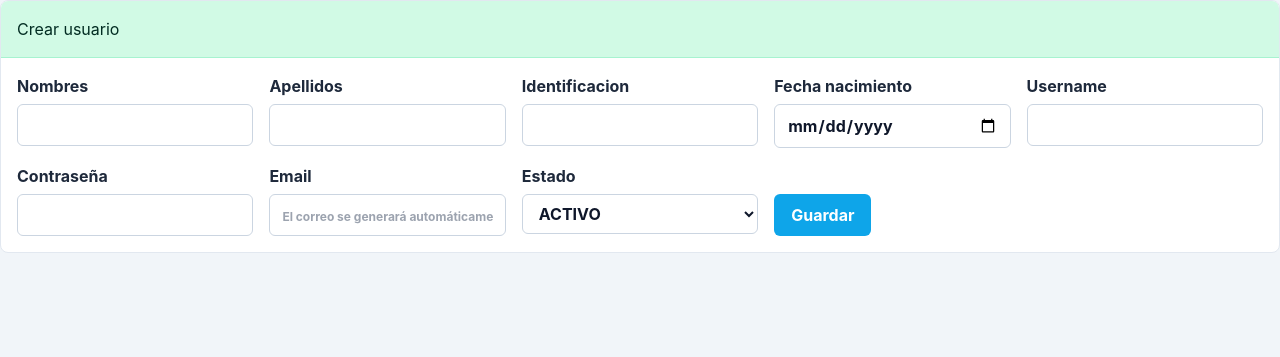
Test: UsuarioForm › valida username, password e identificacion antes de guardar
Type "Ana" into the field labelled "Nombres" at coordinates (135, 125), box x1=17 y1=104 x2=253 y2=146
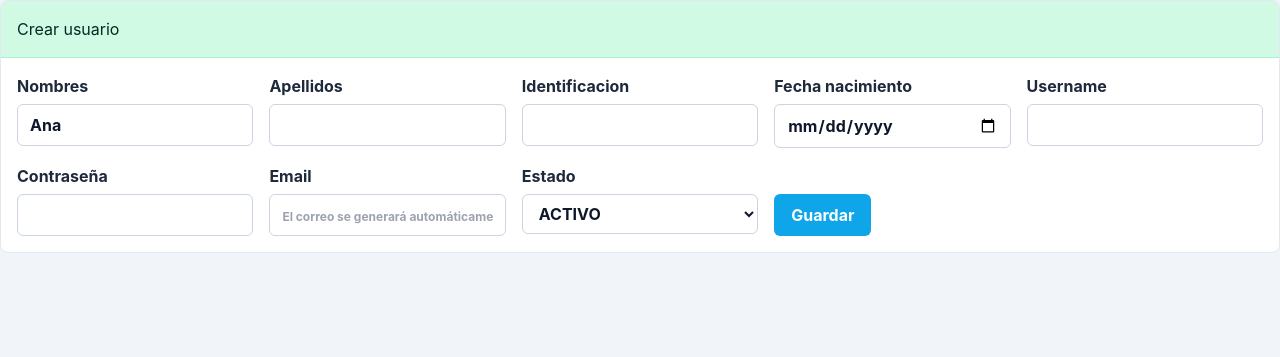
Type "Paz" into the field labelled "Apellidos" at coordinates (388, 125), box x1=269 y1=104 x2=506 y2=146
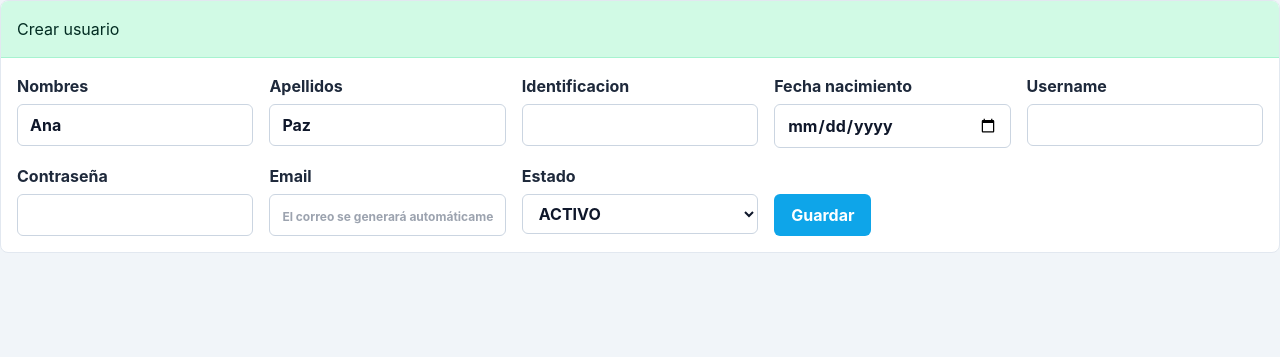
Type "1111222233" into the field labelled "Identificacion" at coordinates (640, 125), box x1=522 y1=104 x2=758 y2=146
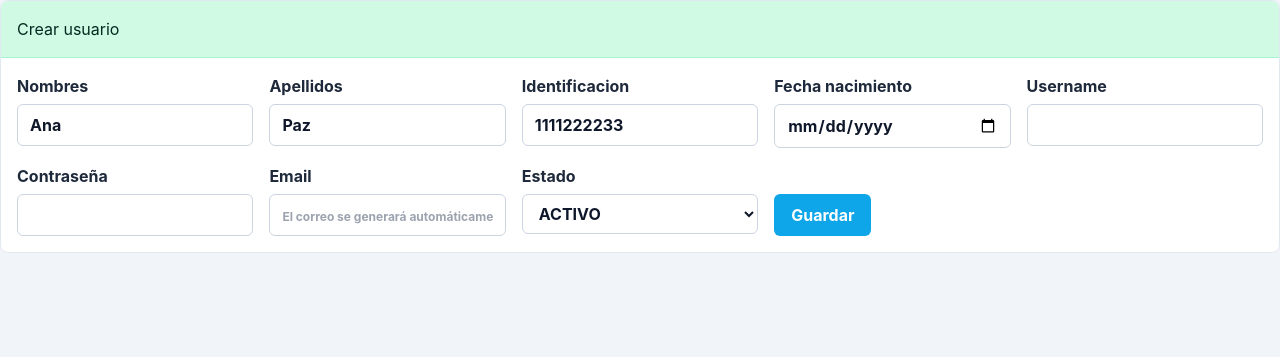
Type "usuario" into the field labelled "Username" at coordinates (1145, 125), box x1=1027 y1=104 x2=1263 y2=146
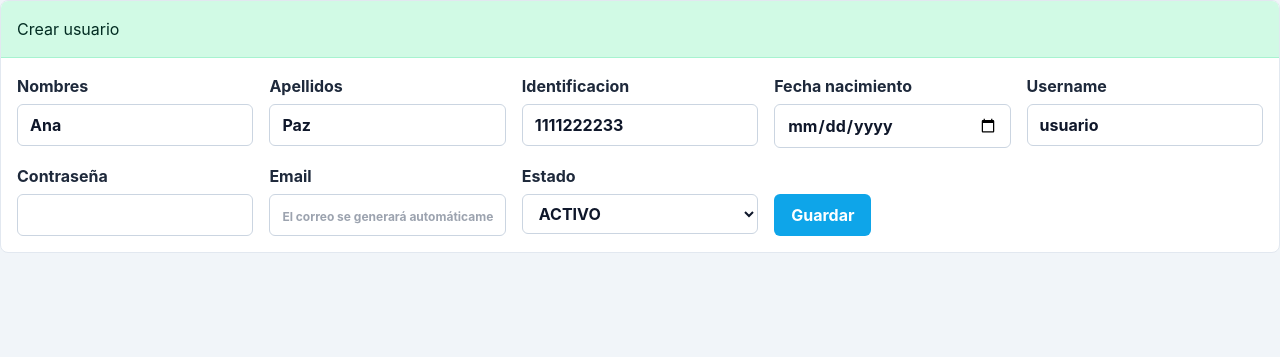
Type "password" into the password field labelled "Contraseña" at coordinates (135, 215), box x1=17 y1=194 x2=253 y2=236
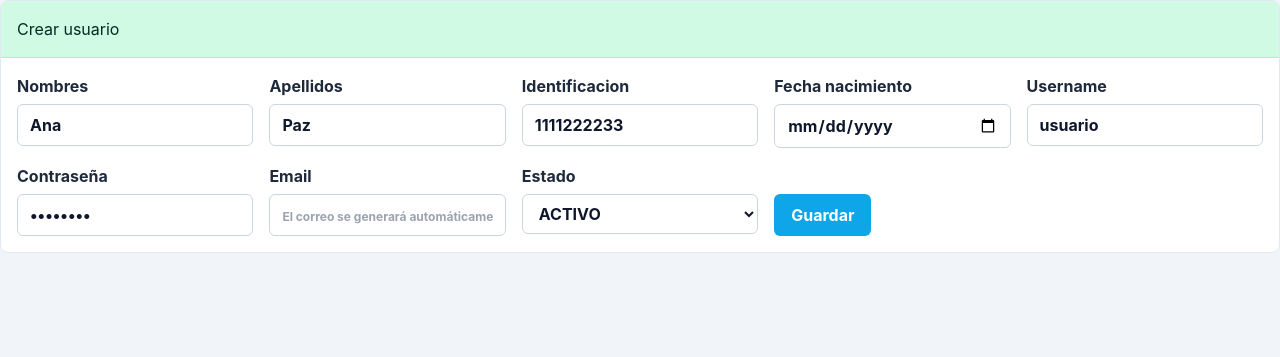
Click the button with aria-label "guardar usuario" at coordinates (823, 215), box x1=774 y1=194 x2=872 y2=236
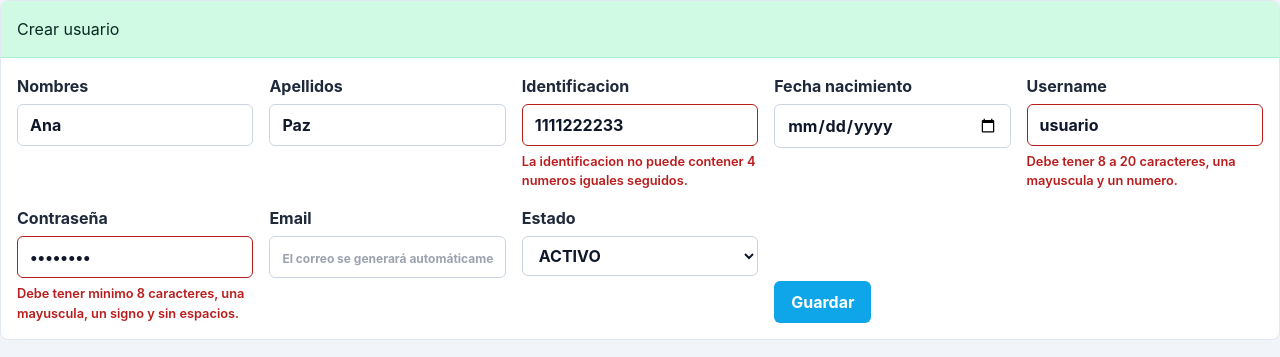
Now the text "Debe tener 8 a 20 caracteres, una mayuscula y un numero." is shown, box x1=1027 y1=152 x2=1263 y2=190
Now the text "un signo" is shown, box x1=17 y1=286 x2=244 y2=321
Now the text "4 numeros iguales" is shown, box x1=522 y1=154 x2=756 y2=188
